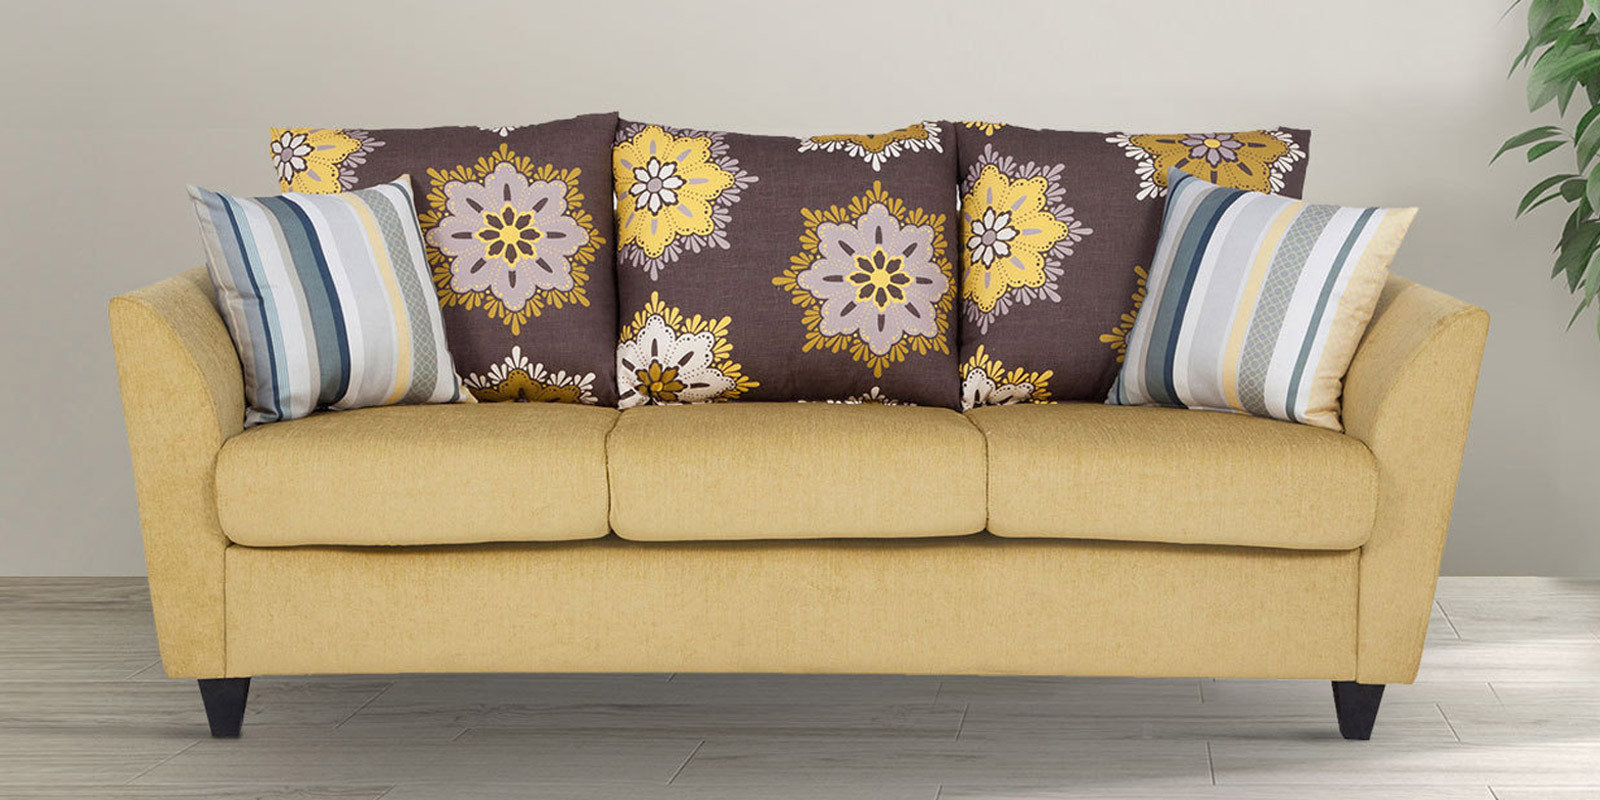Rio Brilliance Three Seater Sofa in Yellow Colour by Urban Living: (107, 109, 1490, 742)
